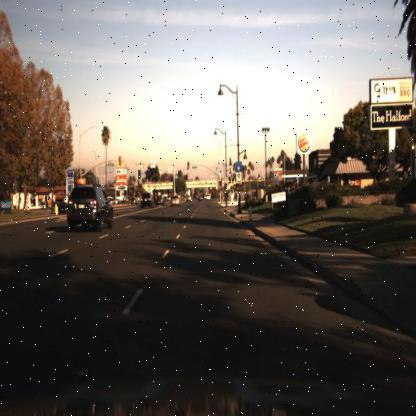car: (64, 182, 116, 242), (138, 193, 156, 211), (140, 194, 154, 210), (56, 198, 68, 216), (153, 192, 164, 211), (170, 192, 182, 208), (169, 195, 181, 209)
